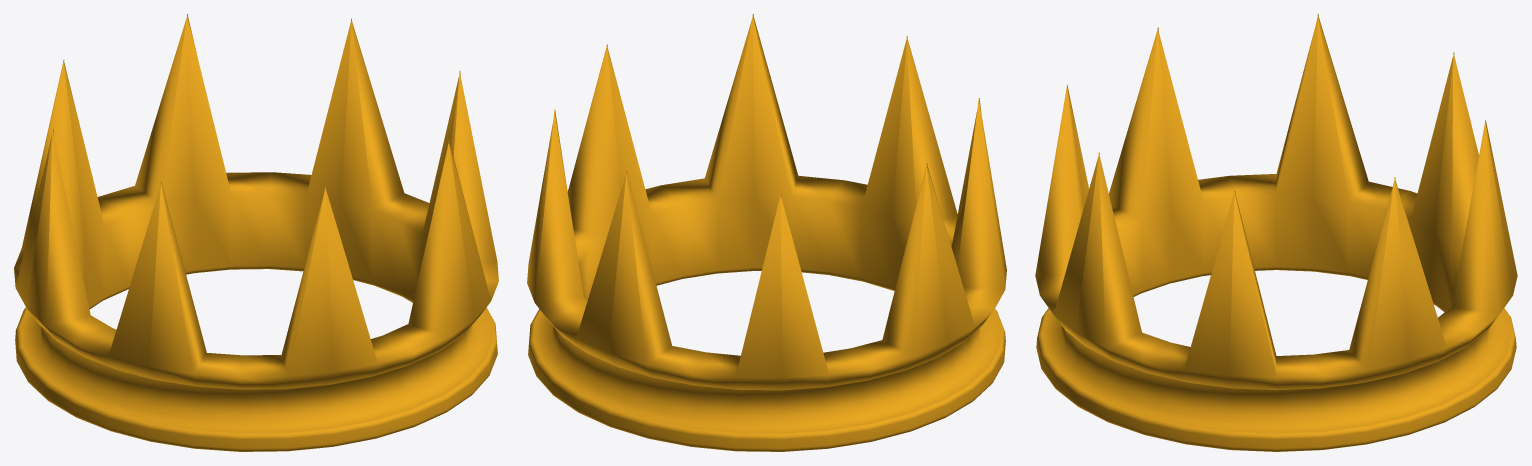
File: Crown.fbx
3 renders of one model, left to right at view 1: azimuth 30°, elevation 25°; view 2: azimuth 150°, elevation 25°; view 3: azimuth 270°, elevation 25°, orthographic.
Parts seen in each view (by area): view 1: crown; view 2: crown; view 3: crown.
Part boxes in pixels (x1,y1,x2,y2): crown: [14, 14, 498, 451]; crown: [527, 14, 1006, 451]; crown: [1035, 14, 1517, 451].
Size of the model in its own units: 336 by 192 by 336.
